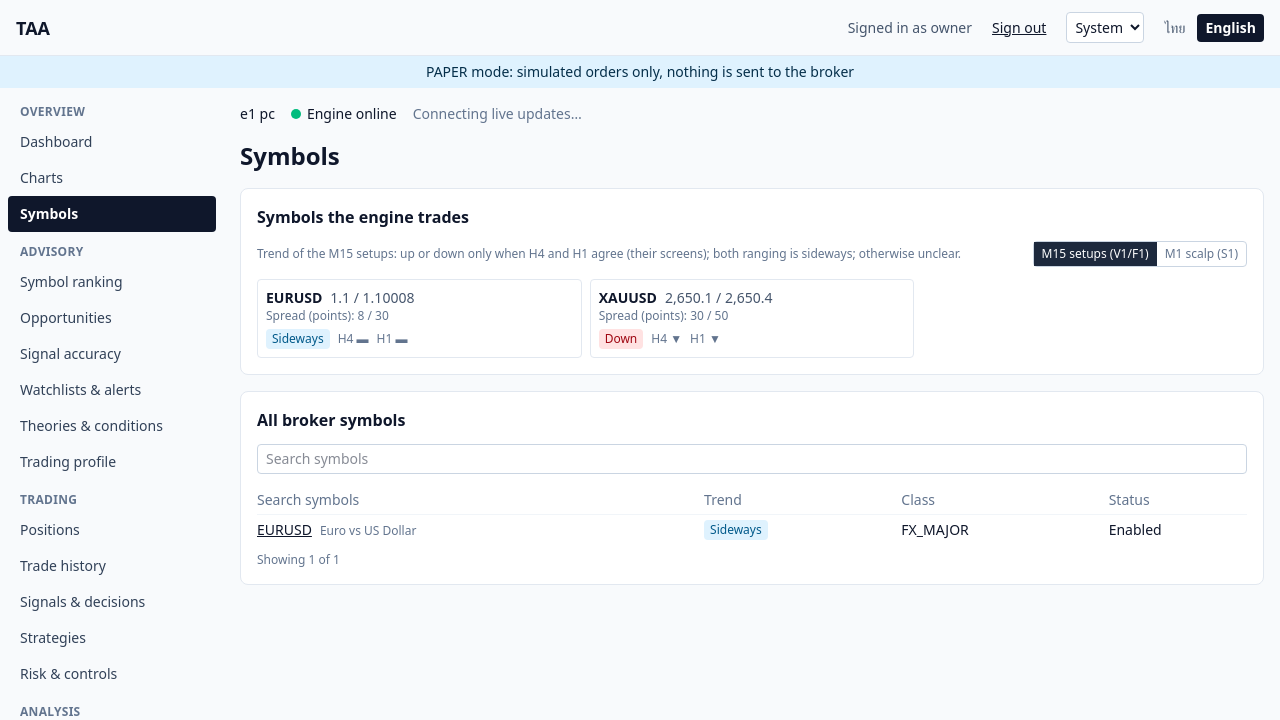
it: symbols page › shows each traded symbol trend for the chosen setup group
This screenshot has width=1280, height=720.
Expected: the text "Down" is shown, [599,329,643,349]
Expected: the text "Sideways" below "/ 30" is shown, [272,330,324,347]
Click the button "M1 scalp (S1)".
click(1201, 254)  # box [1157,242,1246,266]
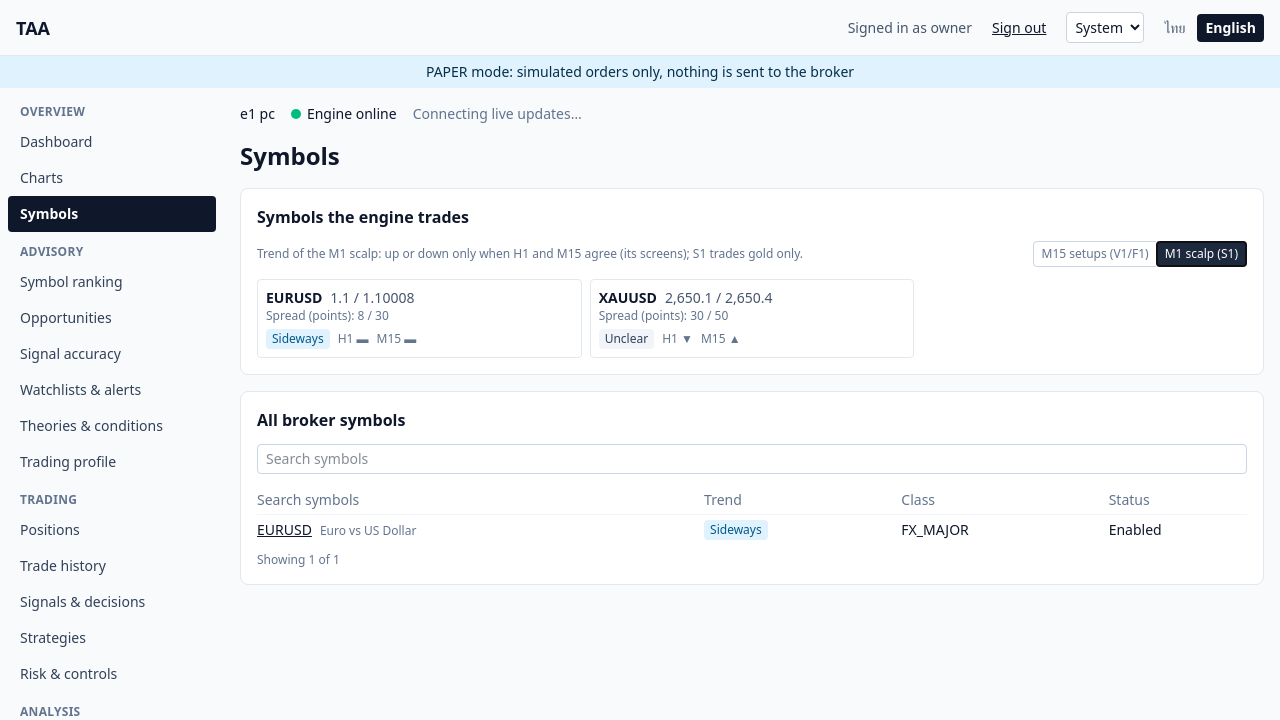
Now the text "Unclear" is shown, box [599,329,654,349]
